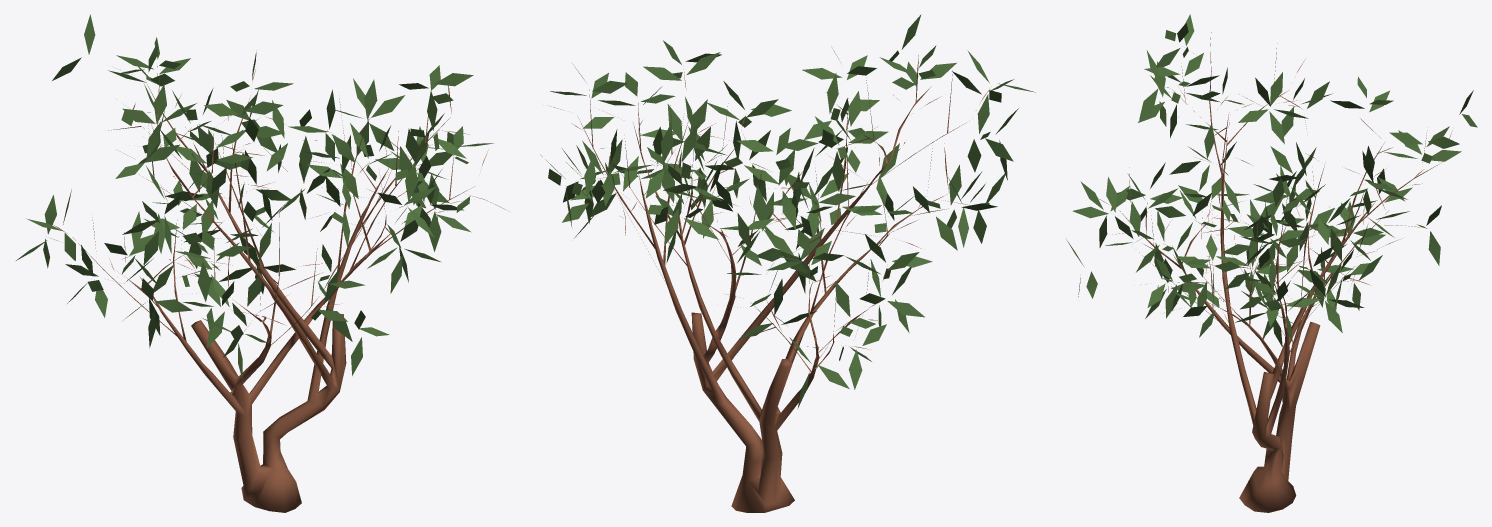
The model's file is Arbousier_0_Niveau2.fbx.
3 views of the same model, side by side, from view 1: azimuth 30°, elevation 25°; view 2: azimuth 150°, elevation 25°; view 3: azimuth 270°, elevation 25° (orthographic). The views are drawn at different scales.
Visible parts, largest first — view 1: Arbousier_0_Niveau2; view 2: Arbousier_0_Niveau2; view 3: Arbousier_0_Niveau2.
Part boxes in pixels (x1,y1,x2,y2): Arbousier_0_Niveau2: [16, 14, 509, 512]; Arbousier_0_Niveau2: [540, 14, 1035, 512]; Arbousier_0_Niveau2: [1066, 14, 1477, 512].
Bounding box in the file's own units: 197 × 210 × 190.
